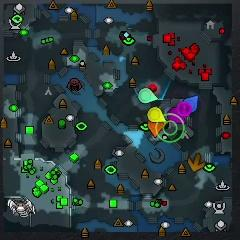Other: (177, 101, 192, 117)
p1: (183, 95, 198, 113)
p2: (138, 88, 158, 104)
p3: (168, 107, 186, 124)
p4: (147, 107, 167, 123)
p5: (148, 121, 163, 137)
x5: (188, 152, 205, 173)
